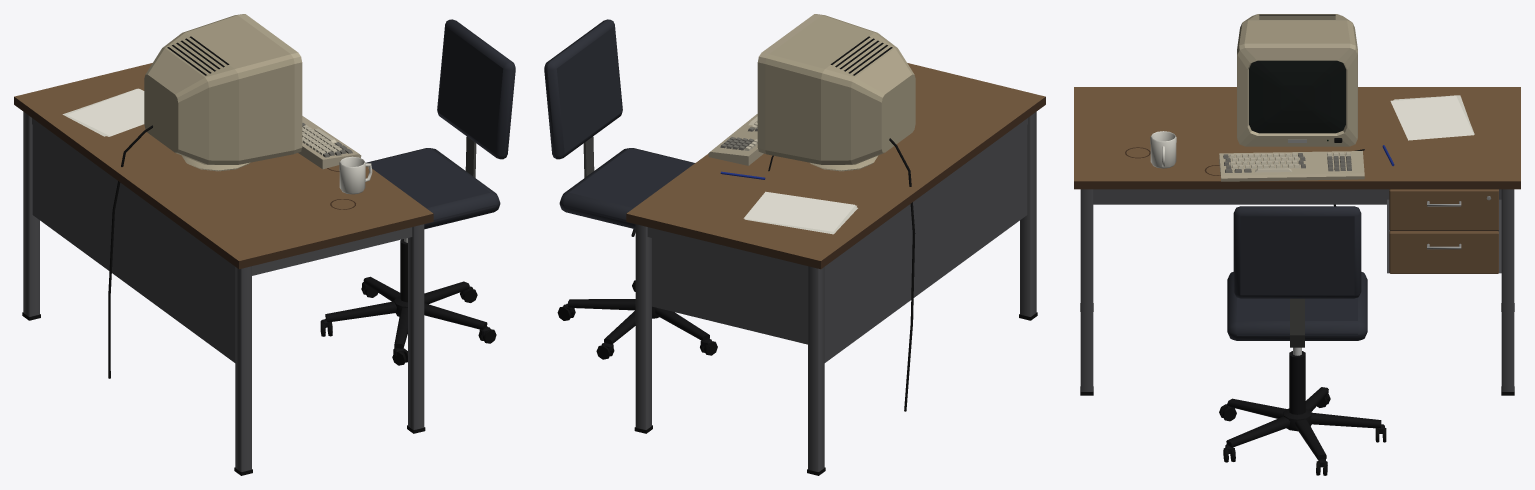
File: desk_crt.glb
3 renders of one model, left to right at view 1: azimuth 30°, elevation 25°; view 2: azimuth 150°, elevation 25°; view 3: azimuth 270°, elevation 25°, orthographic.
Parts seen in each view (by area): view 1: desk2, desk0, desk6, desk23, desk1, desk20, desk15, desk7, desk16, desk3, desk21, desk11 (+2 smaller); view 2: desk2, desk0, desk6, desk23, desk1, desk15, desk20, desk7, desk3, desk11, desk9, desk21; view 3: desk0, desk23, desk2, desk4, desk8, desk7, desk20, desk1, desk6, desk11, desk15, desk13 (+4 smaller).
Part boxes in pixels (left/top/right/bottom): desk2: left=23, top=112, right=424, bottom=471; desk0: left=14, top=63, right=432, bottom=260; desk6: left=144, top=15, right=294, bottom=171; desk23: left=366, top=19, right=515, bottom=229; desk1: left=14, top=97, right=433, bottom=269; desk20: left=320, top=239, right=490, bottom=355; desk15: left=67, top=88, right=144, bottom=136; desk7: left=235, top=14, right=302, bottom=153; desk16: left=339, top=156, right=372, bottom=194; desk3: left=22, top=125, right=425, bottom=475; desk21: left=320, top=286, right=496, bottom=365; desk11: left=298, top=116, right=361, bottom=169; desk2: left=635, top=112, right=1036, bottom=471; desk0: left=627, top=63, right=1045, bottom=260; desk6: left=765, top=15, right=915, bottom=171; desk23: left=544, top=19, right=694, bottom=229; desk1: left=626, top=97, right=1045, bottom=269; desk15: left=743, top=191, right=855, bottom=231; desk20: left=563, top=229, right=711, bottom=351; desk7: left=757, top=14, right=824, bottom=153; desk3: left=634, top=138, right=1037, bottom=475; desk11: left=708, top=114, right=763, bottom=165; desk9: left=830, top=36, right=892, bottom=75; desk21: left=557, top=280, right=717, bottom=359; desk0: left=1074, top=87, right=1520, bottom=181; desk23: left=1227, top=206, right=1367, bottom=340; desk2: left=1080, top=189, right=1514, bottom=391; desk4: left=1389, top=189, right=1498, bottom=273; desk8: left=1249, top=60, right=1345, bottom=133; desk7: left=1237, top=43, right=1357, bottom=146; desk20: left=1225, top=351, right=1384, bottom=467; desk1: left=1074, top=181, right=1520, bottom=189; desk6: left=1237, top=14, right=1357, bottom=49; desk11: left=1219, top=151, right=1364, bottom=181; desk15: left=1390, top=96, right=1473, bottom=140; desk13: left=1229, top=152, right=1350, bottom=172.
Bounding box in the file's own units: 1.3 × 1.13 × 1.4.
